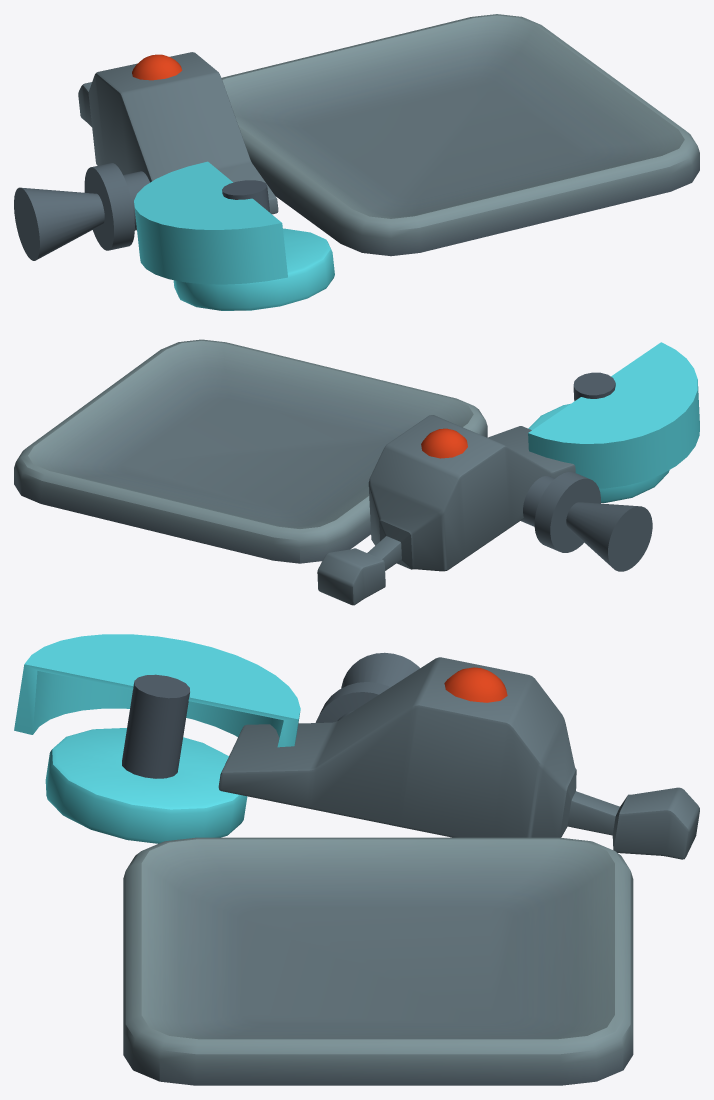
The model's file is PolishPlace.fbx.
The picture shows the model from 3 angles, top to bottom: view 1: azimuth 30°, elevation 25°; view 2: azimuth 150°, elevation 25°; view 3: azimuth 270°, elevation 25°; orthographic projection. The views are drawn at different scales.
Visible parts, largest first — view 1: PolishPlane; view 2: PolishPlane; view 3: PolishPlane.
Part boxes in pixels (box(x1,y1,x2,y2)): PolishPlane: box(14, 14, 699, 310); PolishPlane: box(14, 339, 699, 605); PolishPlane: box(14, 634, 699, 1085).
Size of the model in its own units: 1.7 by 0.37 by 1.35.
